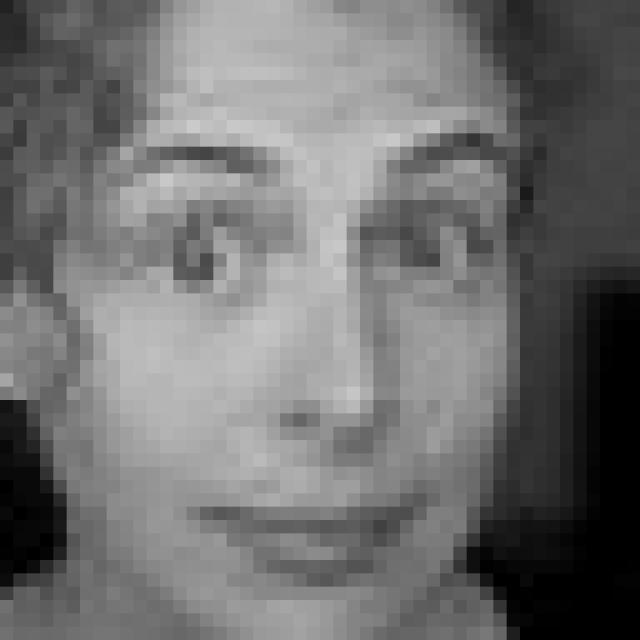surprise: (103, 128, 515, 588)
